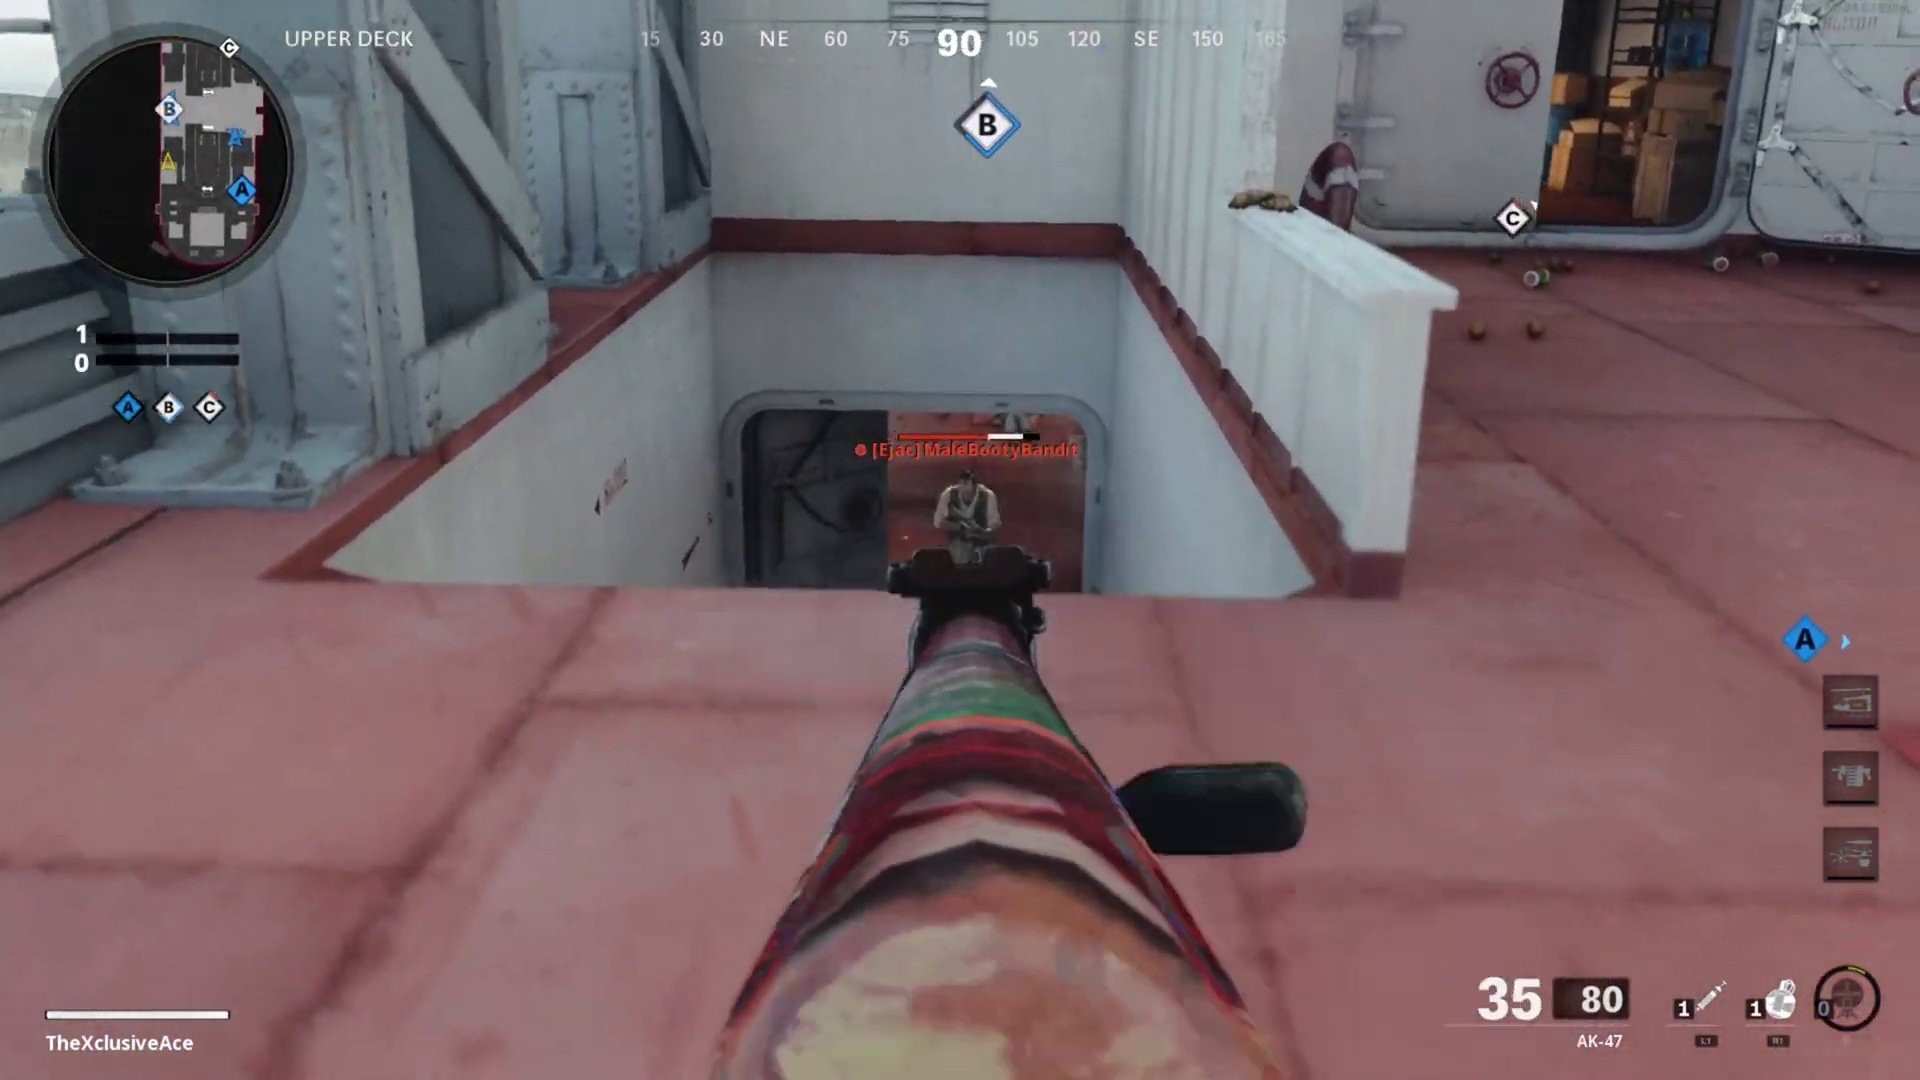head: (948, 467, 985, 511)
person: (934, 463, 1002, 548)
